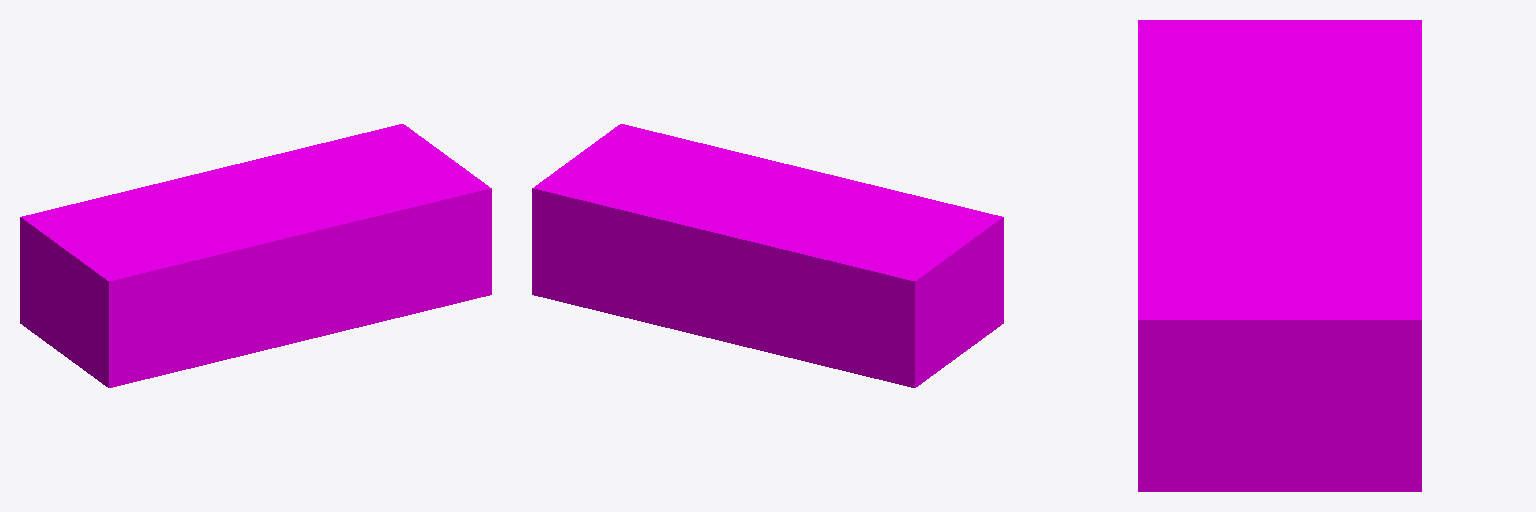
robot.urdf — wall9:
<?xml version="1.0"?>
<robot name="wall9">
	<link name="base">
	<inertial>
        	 <origin xyz="0 0 0" rpy="0 0 0"/>
        	 <mass value="3"/>
        	 <inertia ixx="0.000683333"  ixy="0"  ixz="0" iyy="0.000683333" iyz="0" izz="0.000683333" />
       </inertial>
		<visual>
			<origin xyz="0 0 0" rpy="0 0 0" />
			<geometry>
				<box size="0.075 0.03 0.02" />
			</geometry>
			<material>
				<color rgba="1 0 1 1" />
			</material>
		</visual>
		<collision>
			<origin xyz="0 0 0" rpy="0 0 0" />
			<geometry>
				<box size="0.075 0.03 0.02" />
			</geometry>
			
		</collision>
	</link>
</robot>

--- Render facts (derived) ---
3 views of the same robot in one strip: view 1: azimuth 30°, elevation 25°; view 2: azimuth 150°, elevation 25°; view 3: azimuth 270°, elevation 25° (orthographic).
Model wall9 with 1 links and 0 joints (none), rooted at base, posed every joint at zero.
Visible links, largest first — view 1: base; view 2: base; view 3: base.
Link boxes in pixels (x1=…): base: x1=20, y1=124, x2=491, y2=387; base: x1=532, y1=124, x2=1003, y2=387; base: x1=1138, y1=20, x2=1421, y2=491.
Bounding box of the posed robot: 0.075 × 0.03 × 0.02 m (x, y, z).
Geometry: primitives only (box / cylinder / sphere), no mesh files.
